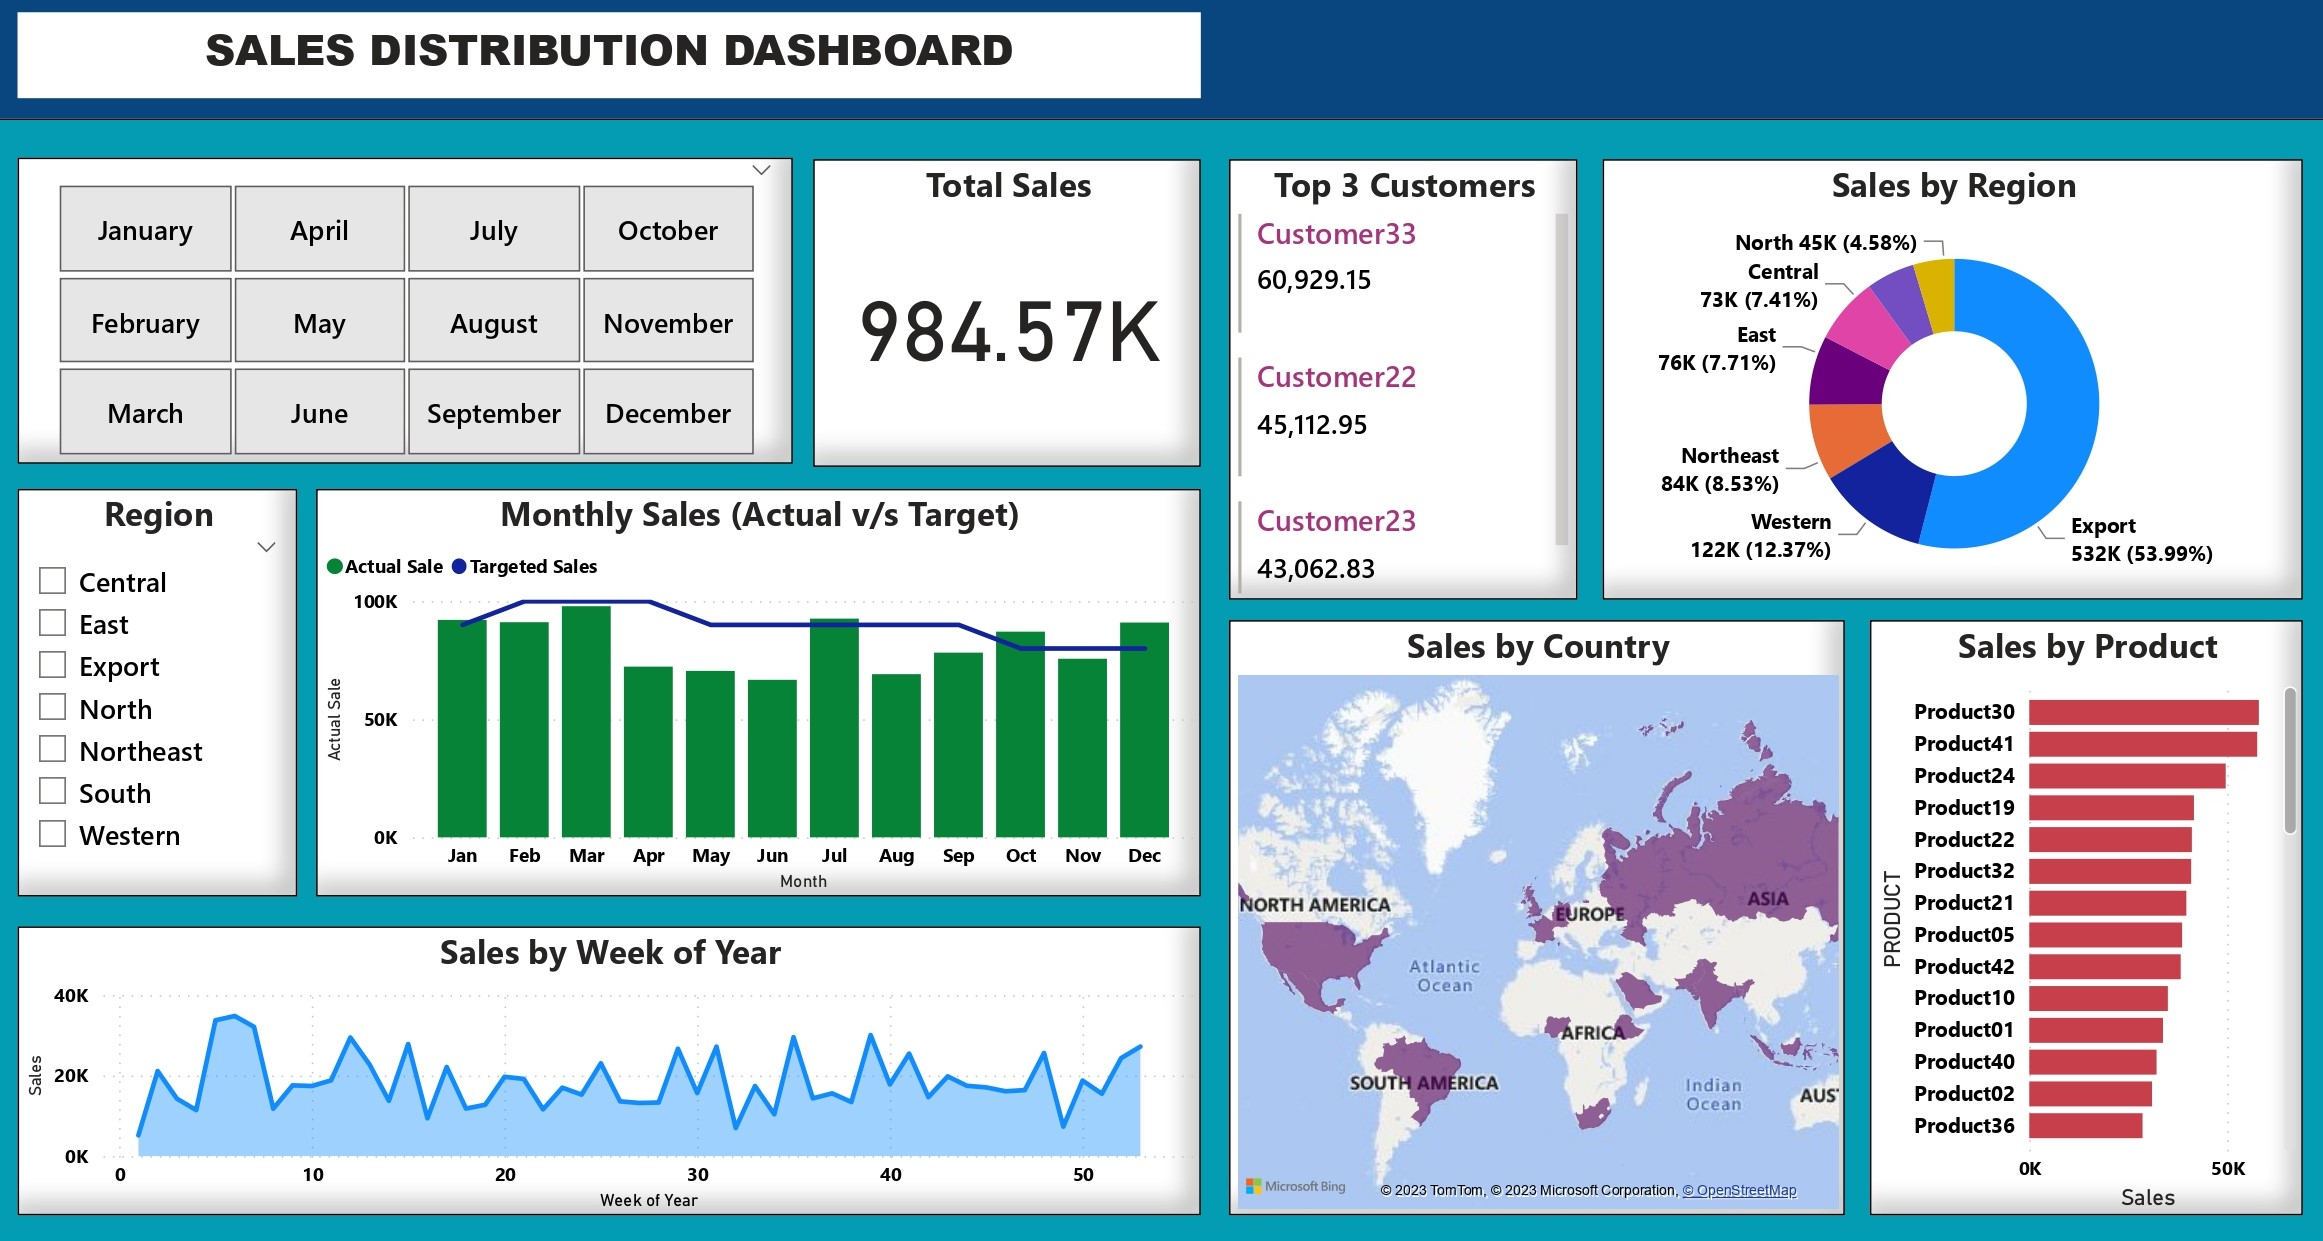

Layout of this report page (visuals, bound fields, positions):
{"tool":"powerbi","page":{"name":"Page 1","canvas":[1500,800],"ordinal":0},"visuals":[{"type":"slicer","fields":{"Values":["InputData.Month Name"]},"box":[16,104.6,496.5,196.8],"z":0},{"type":"card","title":"Total Sales","fields":{"Values":["Sum(InputData.Actual)"]},"box":[524.8,106.4,248.2,196.8],"z":1000},{"type":"slicer","title":"Region","fields":{"Values":["Country.Region"]},"box":[16,317.4,179.1,260.6],"z":2000},{"type":"lineStackedColumnComboChart","title":"Monthly Sales (Actual v/s Target)","fields":{"Category":["TargetData.Month Name"],"Y":["Sum(InputData.Actual)"],"Y2":["Sum(TargetData.Target ($))"]},"box":[207.4,317.4,565.6,260.6],"z":3000},{"type":"areaChart","fields":{"Category":["InputData.Week of Year"],"Y":["Sum(InputData.Actual)"]},"box":[16.2,596.9,756.9,185.2],"z":4000},{"type":"multiRowCard","title":"Top 3 Customers","fields":{"Values":["Country.Customer Name","Sum(InputData.Actual)"]},"box":[791,106.1,222.9,282.2],"z":5000},{"type":"clusteredBarChart","title":"Sales by Product","fields":{"Category":["InputData.PRODUCT"],"Y":["Sum(InputData.Actual)"]},"box":[1200.9,400.9,276.9,381.1],"z":6000},{"type":"donutChart","fields":{"Category":["Country.Region"],"Y":["Sum(InputData.Actual)"]},"box":[1030.1,106.1,447.6,282.2],"z":7000},{"type":"filledMap","fields":{"Category":["Country.Country"]},"box":[790.7,400,385.2,381.5],"z":8000},{"type":"shape","box":[1.8,0,1497.5,80.9],"z":9000},{"type":"textbox","box":[16,12.4,757.1,55],"z":9003}]}

Visuals, with their boxes in screenshot pixels (x1, y1, x2, y2), scaled from the page's 1500x800 canvas onto the 2323x1241 screenshot:
slicer - InputData.Month Name: select_region(25, 162, 794, 468)
"Total Sales" card: select_region(813, 165, 1197, 470)
"Region" slicer: select_region(25, 492, 302, 897)
"Monthly Sales (Actual v/s Target)" lineStackedColumnComboChart: select_region(321, 492, 1197, 897)
areaChart - InputData.Week of Year x Sum(InputData.Actual): select_region(25, 926, 1197, 1213)
"Top 3 Customers" multiRowCard: select_region(1225, 165, 1570, 602)
"Sales by Product" clusteredBarChart: select_region(1860, 622, 2289, 1213)
donutChart - Country.Region x Sum(InputData.Actual): select_region(1595, 165, 2288, 602)
filledMap - Country.Country: select_region(1225, 620, 1821, 1212)
shape: select_region(3, 0, 2322, 125)
textbox: select_region(25, 19, 1197, 105)
